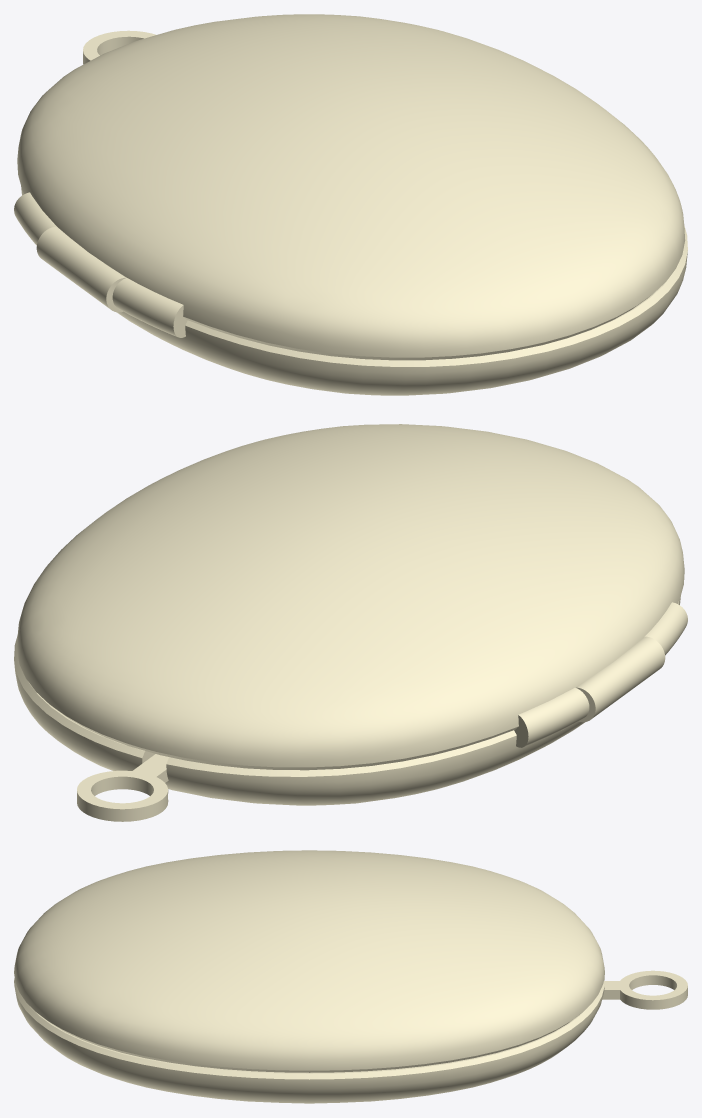
Rendered from 863_locket_pendant.glb.
3 views of the same model, one above another, from view 1: azimuth 30°, elevation 25°; view 2: azimuth 150°, elevation 25°; view 3: azimuth 270°, elevation 25° (orthographic). The views are drawn at different scales.
Parts seen in each view (by area): view 1: 2, 1; view 2: 2, 1; view 3: 2, 1.
Boxes of the visible parts, left/top/right/bottom form: 2: left=14, top=14, right=685, bottom=360; 1: left=21, top=30, right=687, bottom=395; 2: left=17, top=424, right=687, bottom=770; 1: left=14, top=596, right=680, bottom=821; 2: left=14, top=850, right=604, bottom=1072; 1: left=14, top=970, right=687, bottom=1103.
Bounding box in the file's own units: 0.0227 × 0.00828 × 0.0318.
